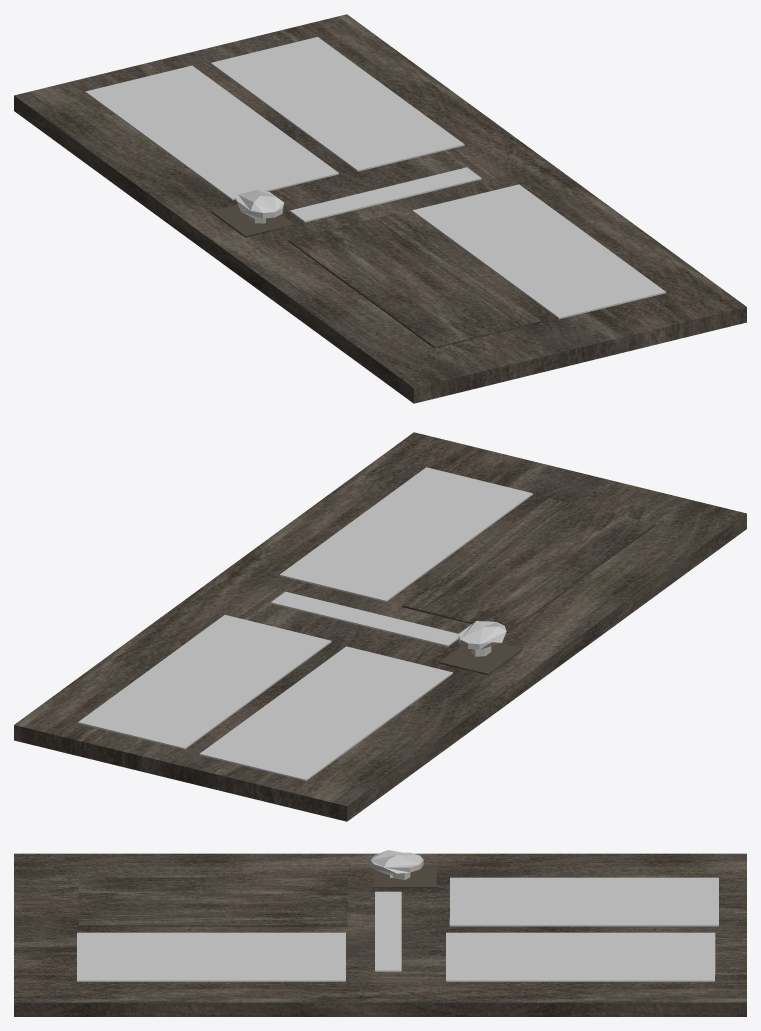
Rendered from door268_wtf.obj.
3 views of the same model, one above another, from view 1: azimuth 30°, elevation 25°; view 2: azimuth 150°, elevation 25°; view 3: azimuth 270°, elevation 25° (orthographic). The views are drawn at different scales.
Visible parts, largest first — view 1: group14, group19, group20, group22, group21, group23, group18, group17; view 2: group14, group21, group22, group20, group19, group23, group18, group17; view 3: group14, group19, group22, group21, group20, group23, group18, group17.
Part boxes in pixels (bbox=[...]): group14: bbox=[14, 14, 746, 403]; group19: bbox=[287, 213, 541, 348]; group20: bbox=[412, 184, 665, 319]; group22: bbox=[211, 37, 464, 171]; group21: bbox=[85, 65, 338, 200]; group23: bbox=[290, 167, 481, 222]; group18: bbox=[211, 204, 294, 237]; group17: bbox=[236, 190, 284, 218]; group14: bbox=[14, 432, 746, 821]; group21: bbox=[199, 646, 452, 781]; group22: bbox=[78, 615, 331, 749]; group20: bbox=[279, 467, 532, 601]; group19: bbox=[402, 498, 655, 632]; group23: bbox=[271, 591, 458, 646]; group18: bbox=[439, 643, 522, 675]; group17: bbox=[458, 621, 506, 649]; group14: bbox=[14, 853, 746, 1016]; group19: bbox=[78, 877, 347, 926]; group22: bbox=[446, 932, 715, 981]; group21: bbox=[449, 877, 718, 926]; group20: bbox=[77, 932, 345, 981]; group23: bbox=[375, 891, 401, 971]; group18: bbox=[373, 865, 436, 888]; group17: bbox=[370, 850, 423, 874].
Bounding box in the file's own units: 317 × 64.19 × 660.
